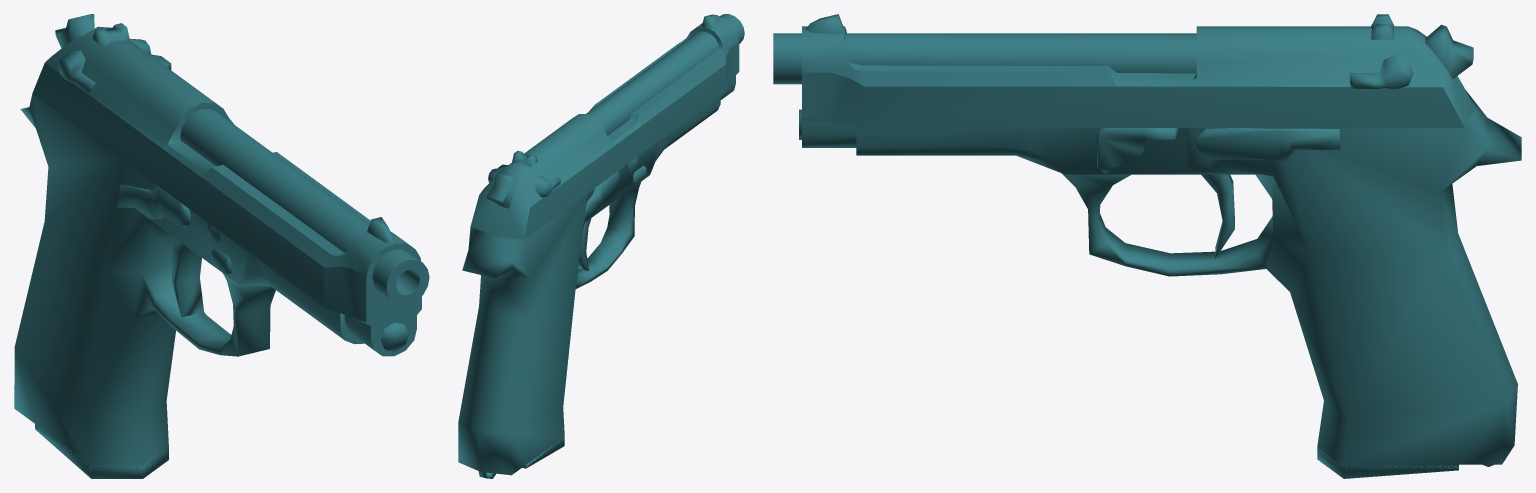
The model's file is Beretta_L0.fbx.
3 renders of one model, left to right at view 1: azimuth 30°, elevation 25°; view 2: azimuth 150°, elevation 25°; view 3: azimuth 270°, elevation 25°, orthographic. The views are drawn at different scales.
Visible parts, largest first — view 1: Beretta, Breach, Barrel, Clip; view 2: Beretta, Breach, Barrel; view 3: Beretta, Breach, Barrel, Clip.
Part boxes in pixels (box(x1,y1,x2,y2)): Beretta: box(14, 14, 408, 478); Breach: box(32, 23, 421, 356); Barrel: box(180, 109, 429, 305); Clip: box(35, 424, 167, 478); Beretta: box(458, 96, 720, 478); Breach: box(470, 14, 739, 239); Barrel: box(586, 14, 744, 135); Beretta: box(799, 24, 1521, 478); Breach: box(802, 14, 1474, 147); Barrel: box(773, 33, 1196, 84); Clip: box(1317, 448, 1458, 477).
Size of the model in its own units: 0.034 by 0.16 by 0.2425.
